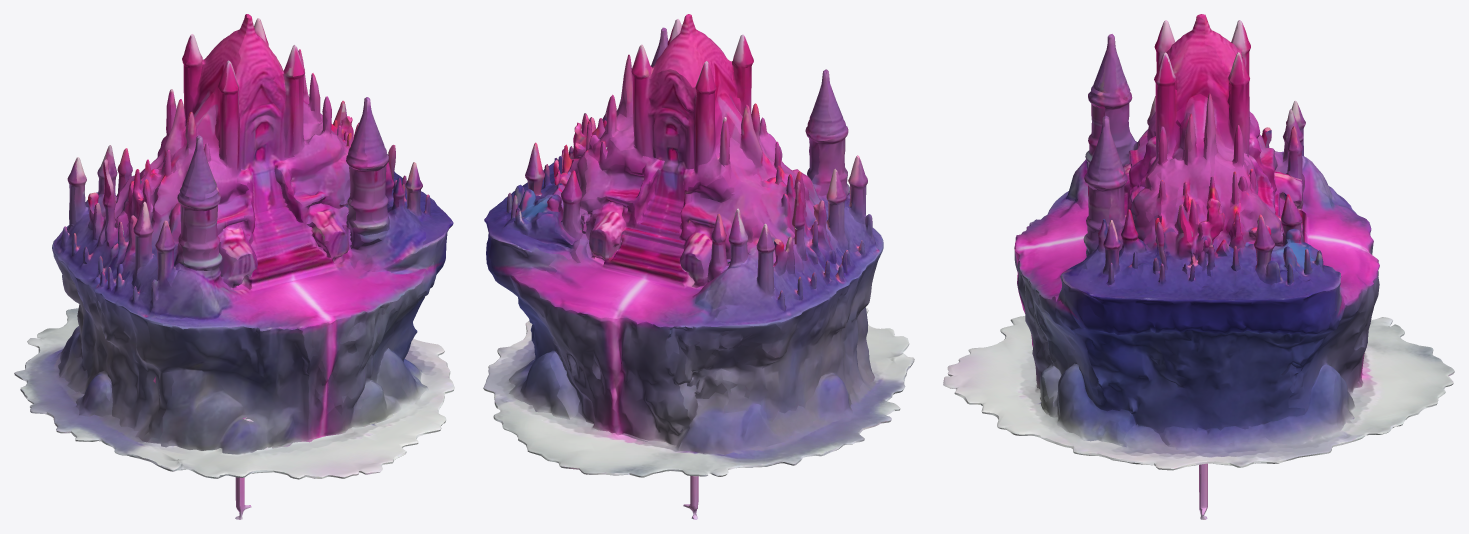
Rendered from outer-shoal-west-generated-2026-05-17T21-11-07-686Z.high.glb.
The picture shows the model from 3 angles, left to right: view 1: azimuth 30°, elevation 25°; view 2: azimuth 150°, elevation 25°; view 3: azimuth 270°, elevation 25°; orthographic projection.
Visible parts, largest first — view 1: temp_mesh.ply; view 2: temp_mesh.ply; view 3: temp_mesh.ply.
Part boxes in pixels (x1,y1,x2,y2): temp_mesh.ply: [14, 14, 454, 519]; temp_mesh.ply: [483, 14, 914, 519]; temp_mesh.ply: [943, 14, 1454, 519].
Bounding box in the file's own units: 1.54 × 1.97 × 1.8.
1 material, 1 textured.
